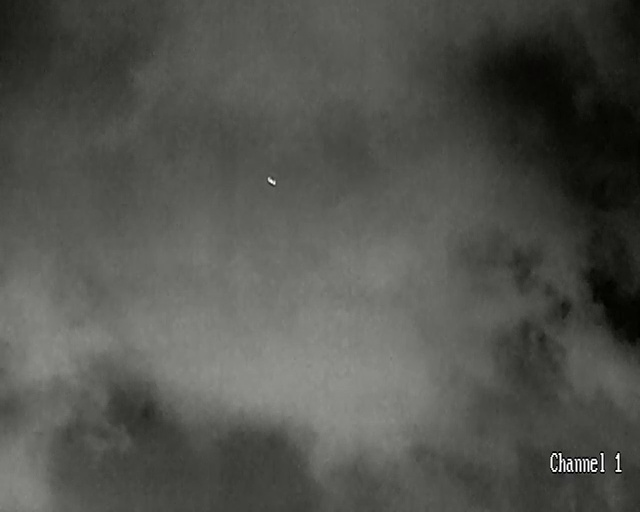uav: (267, 176, 276, 186)
